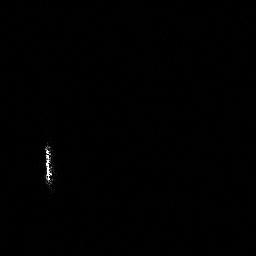ship: (39, 139, 58, 191)
